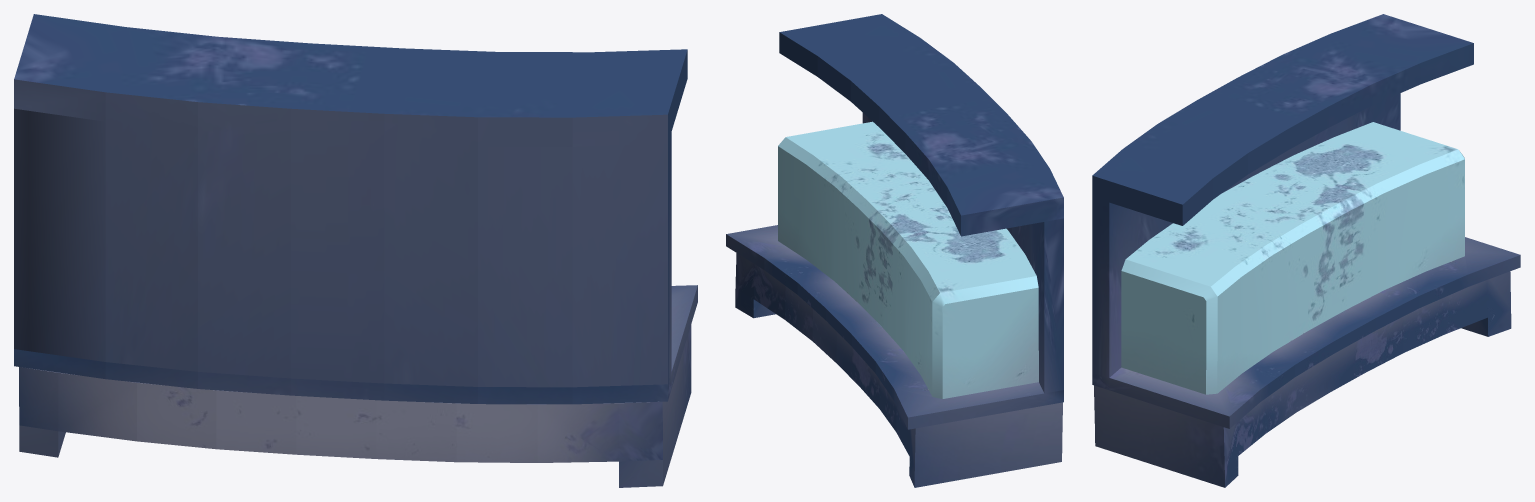
The model's file is Case.FBX.
The picture shows the model from 3 angles, left to right: view 1: azimuth 30°, elevation 25°; view 2: azimuth 150°, elevation 25°; view 3: azimuth 270°, elevation 25°; orthographic projection. The views are drawn at different scales.
Visible parts, largest first — view 1: Case; view 2: Case, Case_Glass; view 3: Case, Case_Glass.
Boxes of the visible parts, x1,y1,x2,y2 form: Case: (14,14,697,487); Case: (726,14,1063,487); Case_Glass: (778,121,1038,398); Case: (1092,14,1520,487); Case_Glass: (1121,122,1464,394).
Size of the model in its own units: 599 by 369 by 527.
Materials: 1 (1 with a texture image).
